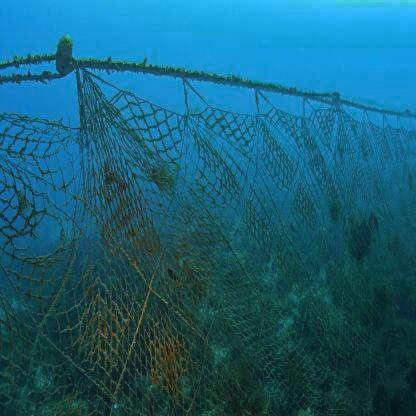net: (1, 54, 416, 412)
